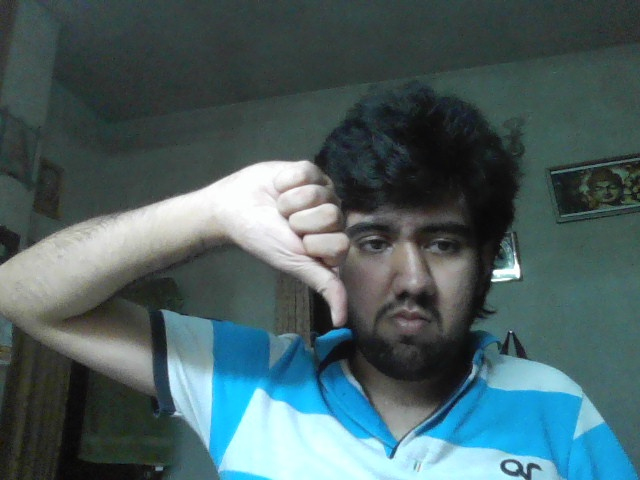NotOk: (232, 160, 351, 327)
